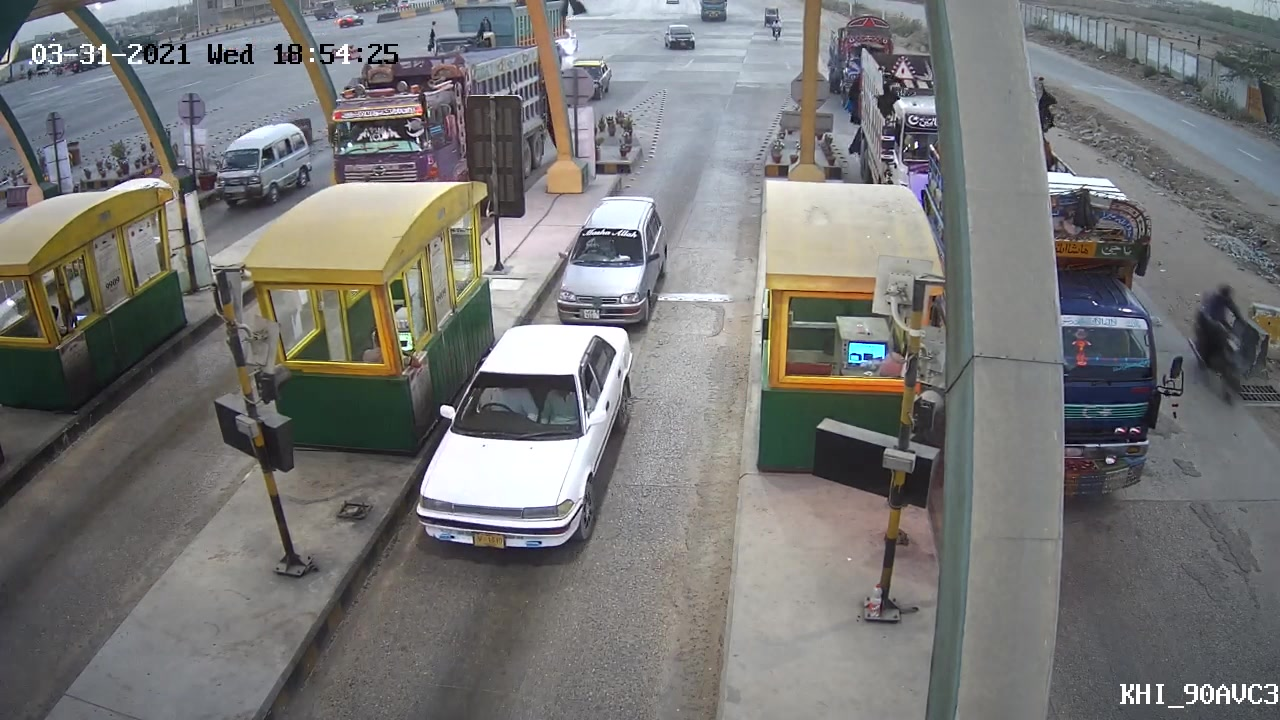F1: (409, 325, 637, 554), (551, 188, 672, 323)
